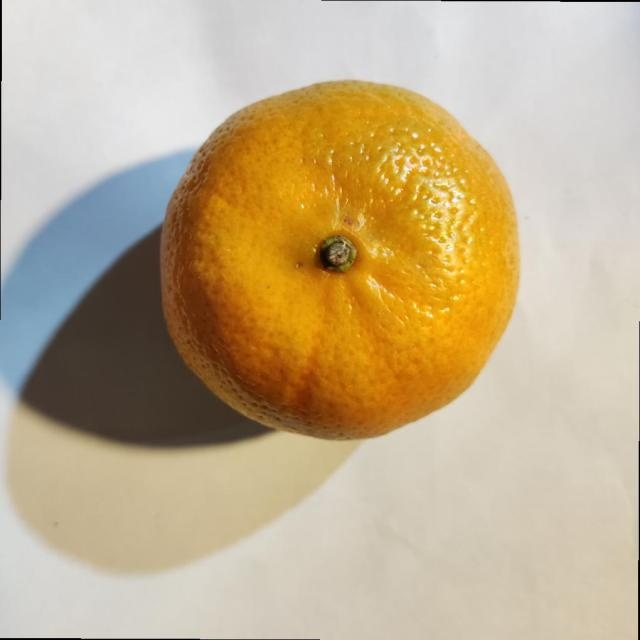agrume: (159, 78, 521, 442)
